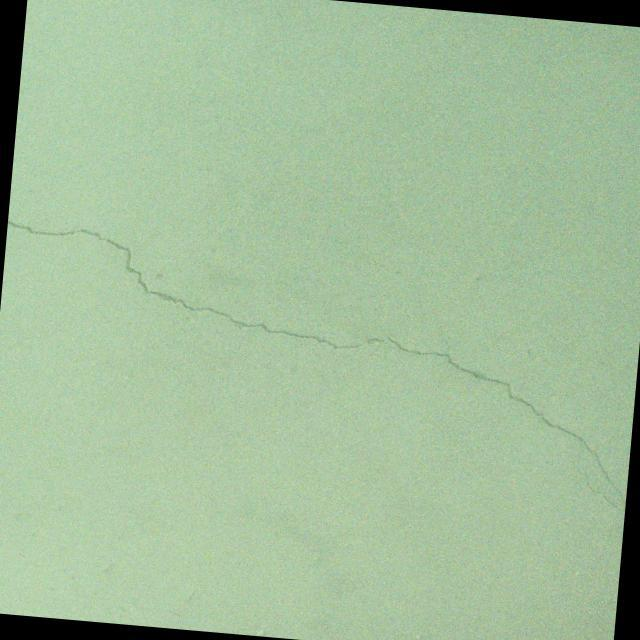crack: (0, 217, 640, 512), (366, 262, 425, 307)
